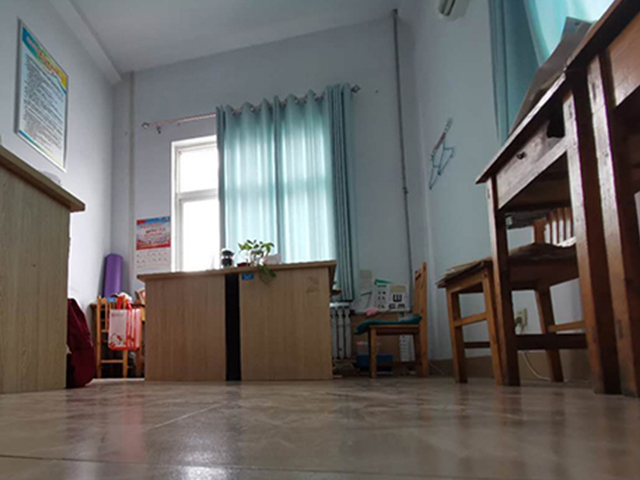curtain: (215, 84, 353, 259)
stool: (432, 204, 587, 387), (363, 259, 431, 381)
table: (472, 67, 603, 392), (133, 258, 340, 384), (1, 148, 87, 397)
wire: (512, 315, 552, 380)
